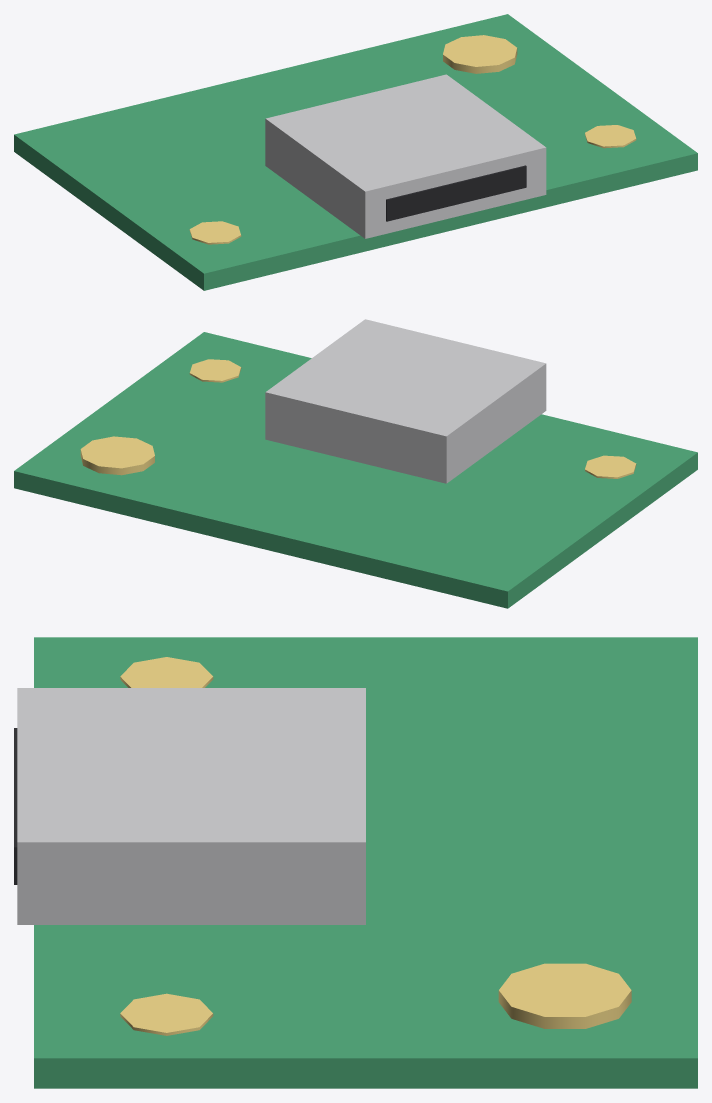
The model's file is phone-port.glb.
The picture shows the model from 3 angles, top to bottom: view 1: azimuth 30°, elevation 25°; view 2: azimuth 150°, elevation 25°; view 3: azimuth 270°, elevation 25°; orthographic projection. The views are drawn at different scales.
Parts seen in each view (by area): view 1: module; view 2: module; view 3: module.
Boxes of the visible parts, bbox=[...] form: module: bbox=[14, 14, 697, 290]; module: bbox=[14, 319, 697, 608]; module: bbox=[14, 637, 697, 1088].
Bounding box in the file's own units: 0.06 × 0.0075 × 0.0412.
